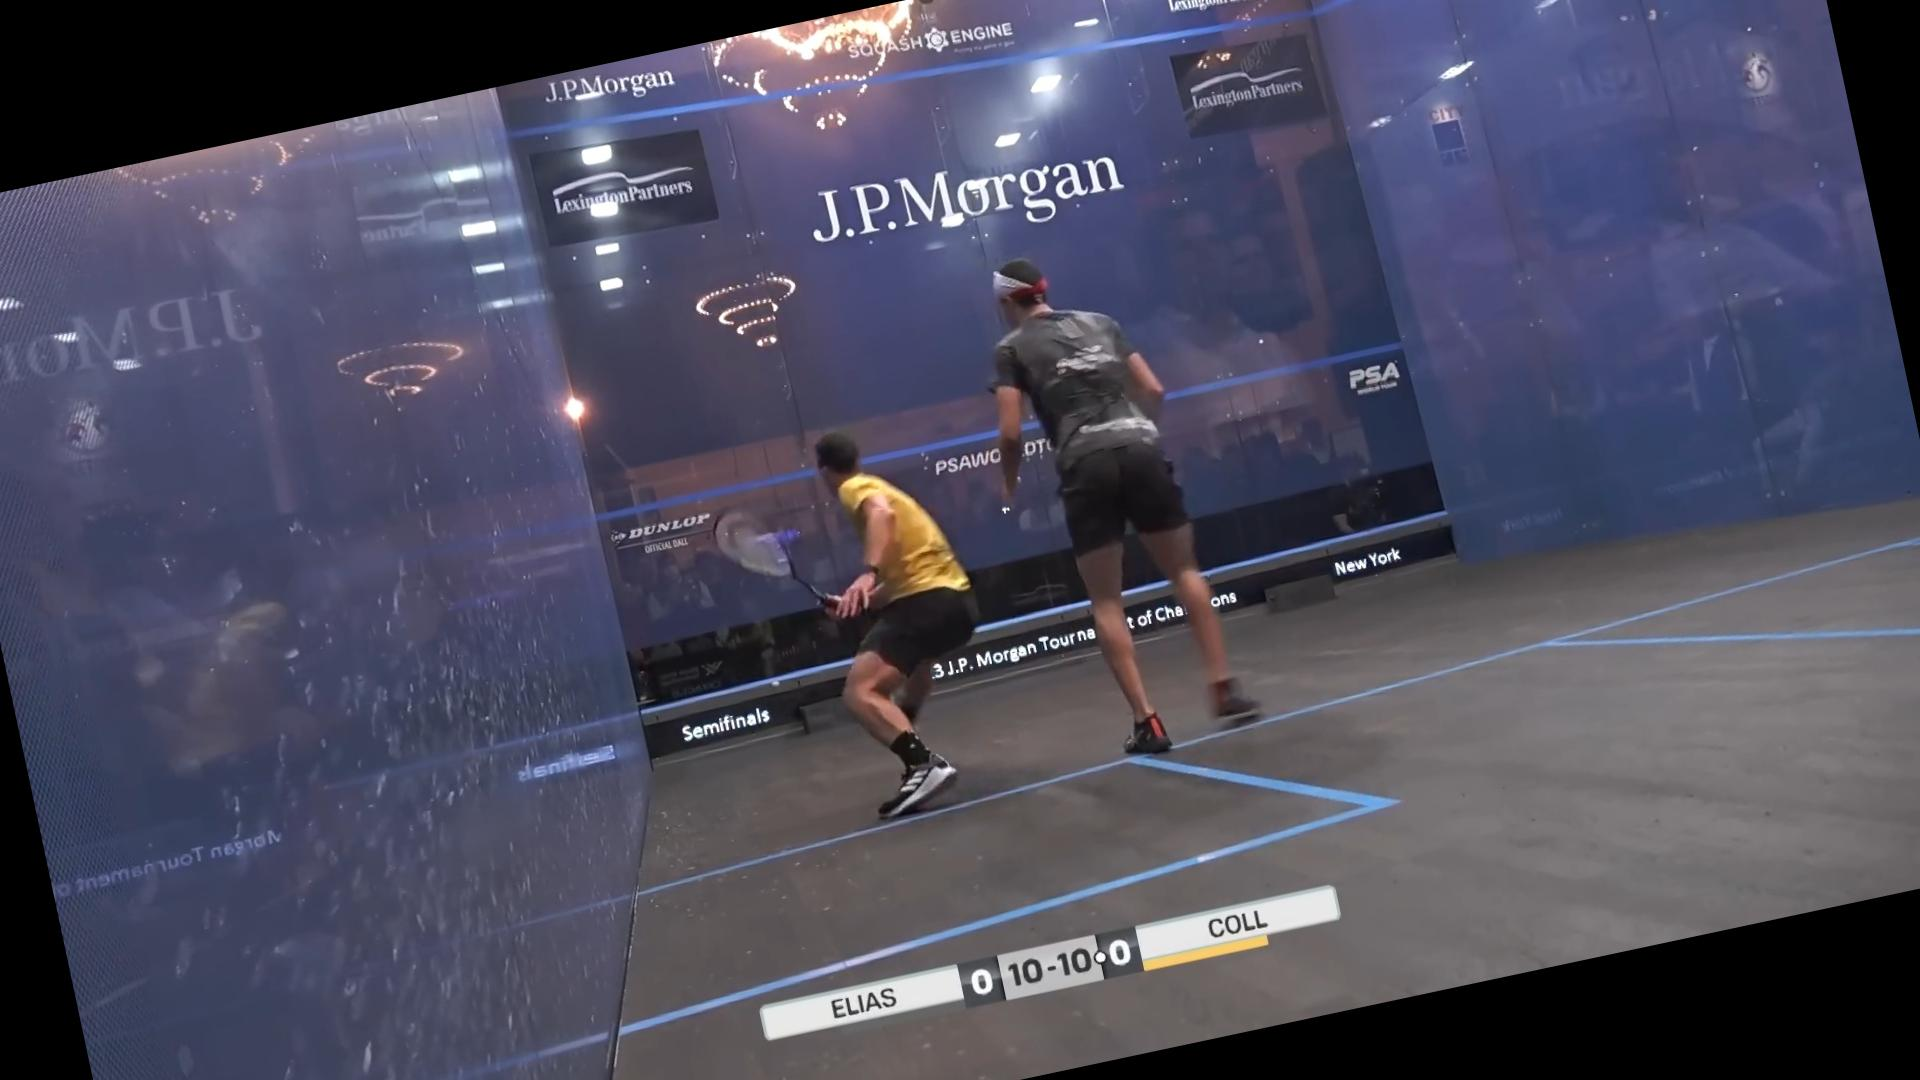Racket: (690, 463, 829, 622)
